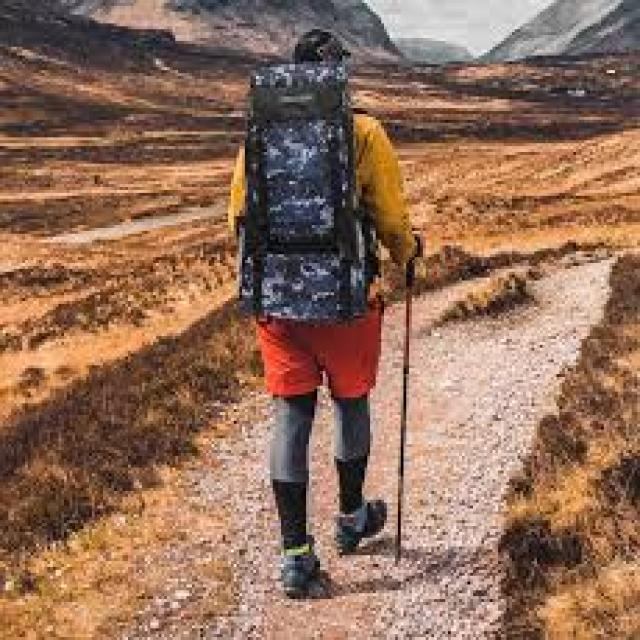backpack: (232, 57, 371, 323)
